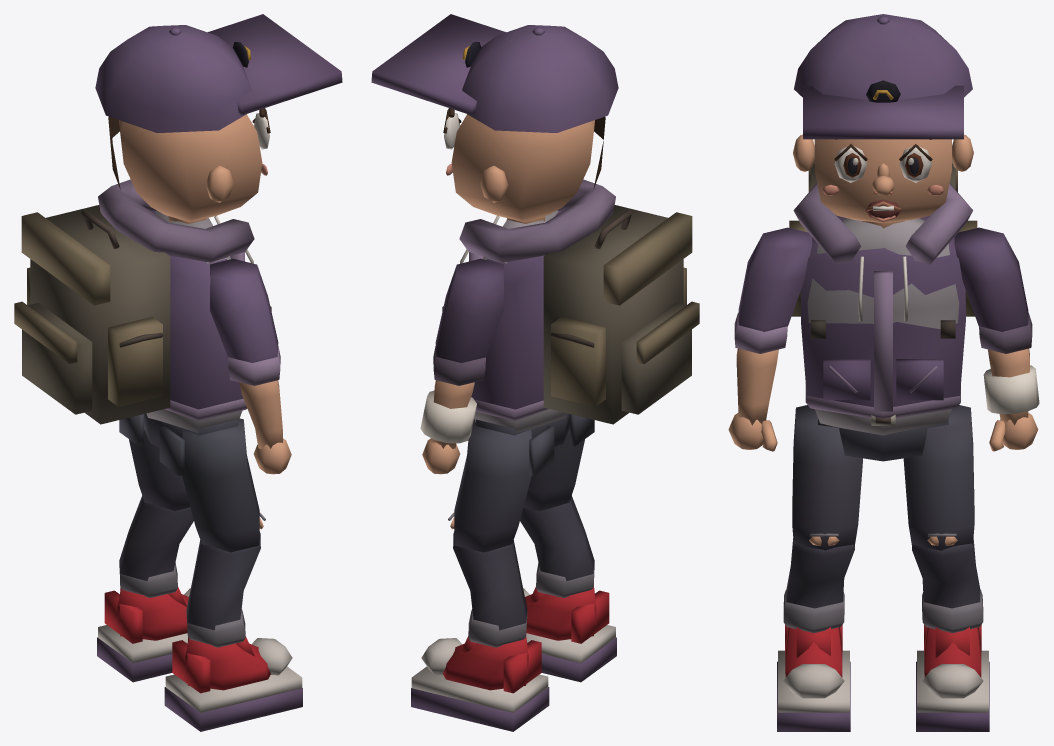
File: npc.survivor-group.aftermath.cap-woman.glb
3 views of the same model, side by side, from view 1: azimuth 30°, elevation 25°; view 2: azimuth 150°, elevation 25°; view 3: azimuth 270°, elevation 25° (orthographic). The views are drawn at different scales.
Visible parts, largest first — view 1: torso, head, footR, legR, footL, shinR, armR, shinL, foreArmR, legL, hip, handR; view 2: torso, head, footL, legL, footR, shinL, armL, shinR, foreArmL, legR, hip, handL; view 3: torso, head, legR, legL, footL, footR, armR, armL, shinR, shinL, foreArmL, foreArmR (+3 smaller).
Boxes of the visible parts, left/top/right/bottom form: torso: left=14, top=179, right=271, bottom=432; head: left=95, top=14, right=342, bottom=223; footR: left=164, top=636, right=302, bottom=731; legR: left=182, top=418, right=259, bottom=552; footL: left=97, top=587, right=190, bottom=682; shinR: left=186, top=512, right=265, bottom=647; armR: left=210, top=258, right=278, bottom=362; shinL: left=119, top=496, right=193, bottom=597; foreArmR: left=228, top=345, right=282, bottom=448; legL: left=129, top=429, right=190, bottom=511; hip: left=119, top=413, right=238, bottom=475; handR: left=253, top=438, right=291, bottom=474; torso: left=442, top=179, right=699, bottom=432; head: left=371, top=14, right=618, bottom=223; footL: left=411, top=636, right=549, bottom=731; legL: left=454, top=419, right=531, bottom=552; footR: left=523, top=586, right=616, bottom=682; shinL: left=448, top=512, right=527, bottom=647; armL: left=435, top=258, right=503, bottom=362; shinR: left=520, top=496, right=594, bottom=597; foreArmL: left=420, top=345, right=485, bottom=448; legR: left=523, top=429, right=584, bottom=511; hip: left=475, top=413, right=594, bottom=475; handL: left=422, top=438, right=460, bottom=474; torso: left=789, top=160, right=977, bottom=435; head: left=793, top=14, right=973, bottom=228; legR: left=792, top=405, right=862, bottom=550; legL: left=903, top=405, right=974, bottom=550; footL: left=916, top=625, right=989, bottom=731; footR: left=777, top=625, right=850, bottom=731; armR: left=738, top=227, right=812, bottom=331; armL: left=954, top=227, right=1028, bottom=331; shinR: left=783, top=533, right=854, bottom=632; shinL: left=912, top=533, right=983, bottom=632; foreArmL: left=979, top=312, right=1039, bottom=425; foreArmR: left=734, top=312, right=787, bottom=425.
Bounding box in the file's own units: 0.7464 × 1.8 × 0.7497.
